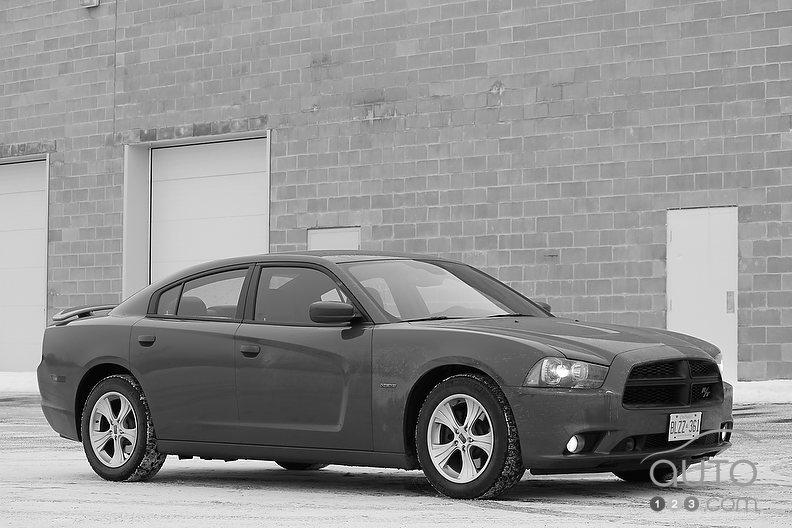car: (39, 248, 736, 503)
